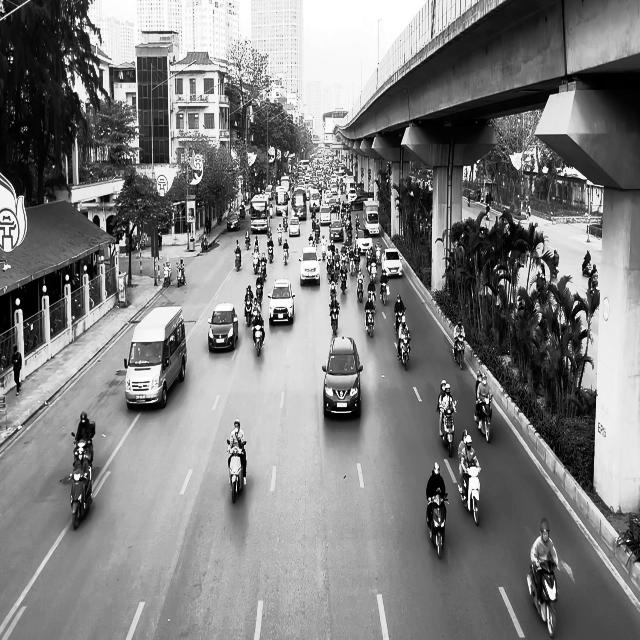car: (322, 335, 363, 418), (208, 302, 238, 352), (267, 277, 296, 325), (298, 246, 320, 286), (382, 248, 402, 277), (355, 228, 372, 254), (227, 212, 240, 231)
motorbike: (527, 561, 558, 638), (426, 492, 448, 558), (226, 438, 247, 503), (460, 465, 481, 526), (438, 400, 458, 458), (475, 394, 493, 442), (397, 332, 411, 370), (252, 319, 264, 356), (453, 336, 465, 369), (329, 301, 340, 336), (364, 305, 375, 337), (394, 307, 406, 335), (379, 278, 390, 306), (176, 263, 185, 287), (163, 265, 171, 287), (235, 252, 241, 271)
truck: (124, 305, 186, 410)
